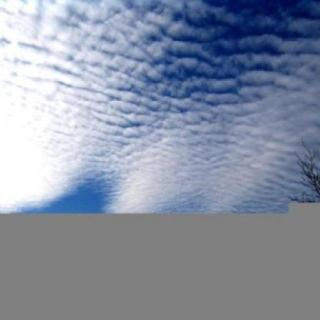Altocumulus: (0, 0, 320, 208)
